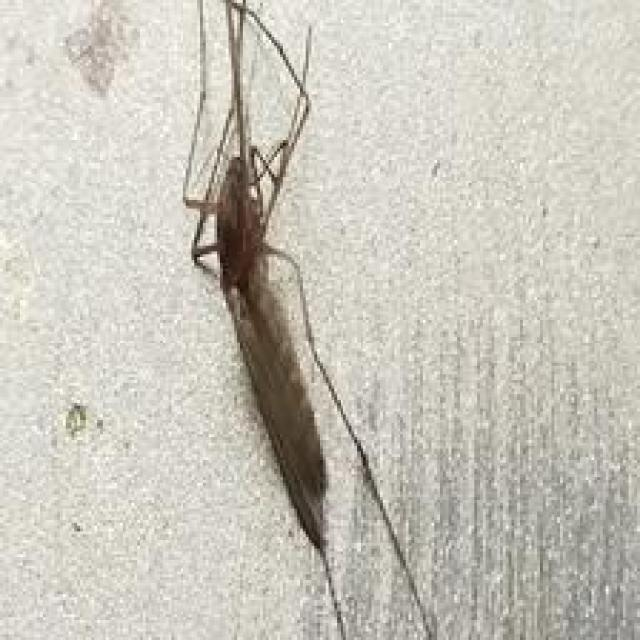Culex: (62, 0, 447, 640)
